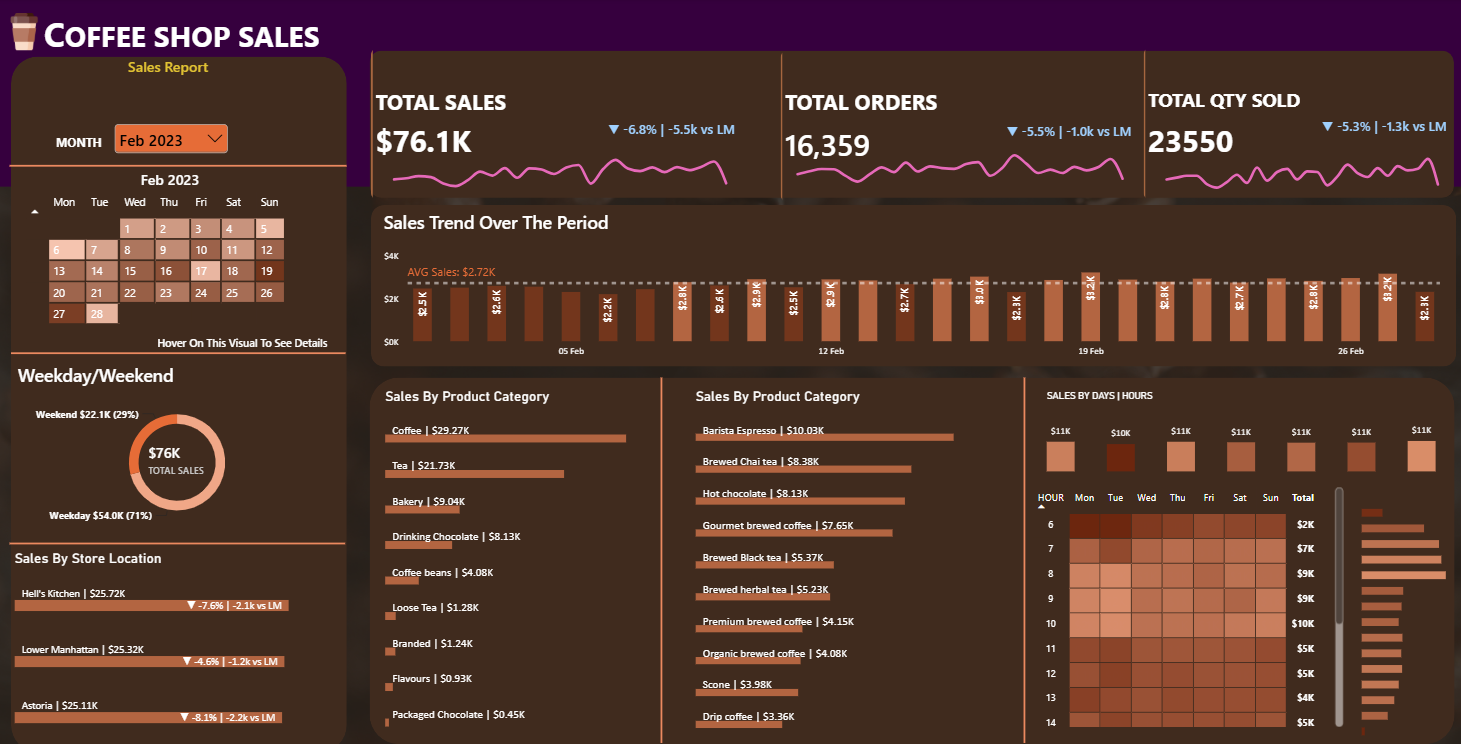

The page's visual inventory and layout, read from the dashboard file:
{"tool":"powerbi","page":{"name":"Coffee Shop Sales","canvas":[1650,850],"ordinal":0},"visuals":[{"type":"shape","box":[417.1,428.6,1223.3,413.3],"z":0},{"type":"shape","box":[0,0,1649.4,212.8],"z":1000},{"type":"shape","box":[12.9,65.7,378.6,784.3],"z":2000},{"type":"shape","box":[417.5,58.8,1222.5,166.2],"z":3000},{"type":"textbox","box":[50,15.7,328.6,50],"z":4000},{"type":"cardVisual","fields":{"Data":["Transactions.TOTAL SALES"]},"box":[419.6,55.8,226.4,172.7],"z":4000,"group":"g1"},{"type":"cardVisual","fields":{"Data":["DAY TABLE.TOTAL QTY SOLD"]},"box":[1291.5,55.8,216.3,172.3],"z":4000,"group":"g3"},{"type":"cardVisual","fields":{"Data":["DAY TABLE.total orders"]},"box":[880.5,60,252.8,172],"z":4000,"group":"g2"},{"type":"slicer","fields":{"Values":["DAY TABLE.MONTH YEAR"]},"box":[125,136.7,137.9,44.3],"z":5000},{"type":"group","id":"g1","title":"Group 1","box":[419.2,55.8,425.8,179.2],"z":6000},{"type":"lineChart","fields":{"Category":["DAY TABLE.Date Hierarchy.Date"],"Y":["DAY TABLE.TOTAL QTY SOLD"]},"box":[1291.1,119.3,357.9,112.1],"z":6000,"group":"g3"},{"type":"lineChart","fields":{"Category":["DAY TABLE.Date Hierarchy.Date"],"Y":["Sum(Transactions.SALES)"]},"box":[419.2,123.1,426.4,111.5],"z":6000,"group":"g1"},{"type":"lineChart","fields":{"Category":["DAY TABLE.Date Hierarchy.Date"],"Y":["DAY TABLE.total orders"]},"box":[874.4,125.6,418.4,111.8],"z":6000,"group":"g2"},{"type":"group","id":"g2","title":"Group 1","box":[874.4,60,416.7,176.7],"z":7000},{"type":"group","id":"g3","title":"Group 1","box":[1291.1,55.8,358.9,175.8],"z":8000},{"type":"image","box":[0,16.7,56.7,41.7],"z":9000},{"type":"pivotTable","fields":{"Columns":["DAY TABLE.DAY NAME"],"Rows":["DAY TABLE.WEEK NUMBER"],"Values":["Min(DAY TABLE.DAY NUMBER)"]},"box":[14.4,204.4,378.9,206.7],"z":10000},{"type":"cardVisual","fields":{"Data":["Min(DAY TABLE.MONTH YEAR)"]},"box":[144.4,178.9,111.8,51.8],"z":11000},{"type":"cardVisual","fields":{"Data":["DAY TABLE.FOOT NOTE"]},"box":[162.2,375.6,231.5,26.2],"z":12000},{"type":"shape","box":[13.8,393.8,377.1,12.9],"z":13000},{"type":"shape","box":[11.1,171.1,380,36.7],"z":14000},{"type":"donutChart","title":"Weekday/Weekend","fields":{"Category":["DAY TABLE.Weekday / Weekend"],"Y":["Transactions.TOTAL SALES"]},"box":[4.8,397.6,391.4,211.4],"z":15000},{"type":"shape","box":[740,428.6,12.3,412.3],"z":16000},{"type":"cardVisual","fields":{"Data":["Transactions.TOTAL SALES"]},"box":[152.2,492.2,98.8,58.2],"z":17000},{"type":"clusteredBarChart","title":"Sales By Store Location ","fields":{"Category":["Transactions.store_location"],"Y":["DAY TABLE.Placeholder","Transactions.TOTAL SALES"]},"box":[2.2,608.9,392.2,230],"z":18000},{"type":"shape","box":[419,234,1223.3,182.2],"z":19000},{"type":"columnChart","title":"Sales Trend Over The Period ","fields":{"Category":["Transactions.transaction_date"],"Y":["Transactions.TOTAL SALES"]},"box":[417,225,1222.5,200],"z":20000},{"type":"clusteredBarChart","title":"Sales By Product Category","fields":{"Category":["Transactions.product_category"],"Y":["DAY TABLE.Placeholder","Transactions.TOTAL SALES"]},"box":[419.3,426.3,331.6,412.3],"z":21000},{"type":"shape","box":[12.5,608.8,378.4,12.4],"z":22000},{"type":"clusteredBarChart","title":"Sales By Product Category","fields":{"Category":["Transactions.product_type"],"Y":["DAY TABLE.Placeholder","Transactions.TOTAL SALES"]},"box":[770,425.7,380,413.8],"z":23000},{"type":"shape","box":[1150,428,12.3,412.3],"z":24000},{"type":"pivotTable","fields":{"Columns":["DAY TABLE.DAY NAME"],"Rows":["Transactions.HOUR"],"Values":["Transactions.TOTAL SALES"]},"box":[1150,538.6,381.4,300],"z":25000},{"type":"barChart","fields":{"Category":["Transactions.HOUR"],"Y":["Transactions.TOTAL SALES"]},"box":[1520,551.7,130,298.6],"z":26000},{"type":"columnChart","title":"SALES BY DAYS | HOURS","fields":{"Category":["DAY TABLE.DAY NAME"],"Y":["Transactions.TOTAL SALES"]},"box":[1164.3,428.6,472.9,122.9],"z":26001},{"type":"textbox","box":[65,152.1,52.1,19.3],"z":26002},{"type":"textbox","box":[145.7,65.7,95.7,23.6],"z":26003}]}

Visuals, with their boxes in screenshot pixels (x1, y1, x2, y2), scaled from the page's 1650x850 canvas onto the 1461x744 screenshot:
shape: rect(369, 375, 1452, 737)
shape: rect(0, 0, 1460, 186)
shape: rect(11, 58, 347, 743)
shape: rect(370, 51, 1452, 197)
textbox: rect(44, 14, 335, 58)
cardVisual - Transactions.TOTAL SALES: rect(372, 49, 572, 200)
cardVisual - DAY TABLE.TOTAL QTY SOLD: rect(1144, 49, 1335, 200)
cardVisual - DAY TABLE.total orders: rect(780, 53, 1003, 203)
slicer - DAY TABLE.MONTH YEAR: rect(111, 120, 233, 158)
"Group 1" group: rect(371, 49, 748, 206)
lineChart - DAY TABLE.Date Hierarchy.Date x DAY TABLE.TOTAL QTY SOLD: rect(1143, 104, 1460, 203)
lineChart - DAY TABLE.Date Hierarchy.Date x Sum(Transactions.SALES): rect(371, 108, 749, 205)
lineChart - DAY TABLE.Date Hierarchy.Date x DAY TABLE.total orders: rect(774, 110, 1145, 208)
"Group 1" group: rect(774, 53, 1143, 207)
"Group 1" group: rect(1143, 49, 1460, 203)
image: rect(0, 15, 50, 51)
pivotTable - DAY TABLE.DAY NAME x DAY TABLE.WEEK NUMBER: rect(13, 179, 348, 360)
cardVisual - Min(DAY TABLE.MONTH YEAR): rect(128, 157, 227, 202)
cardVisual - DAY TABLE.FOOT NOTE: rect(144, 329, 349, 352)
shape: rect(12, 345, 346, 356)
shape: rect(10, 150, 346, 182)
"Weekday/Weekend" donutChart: rect(4, 348, 351, 533)
shape: rect(655, 375, 666, 736)
cardVisual - Transactions.TOTAL SALES: rect(135, 431, 222, 482)
"Sales By Store Location " clusteredBarChart: rect(2, 533, 349, 734)
shape: rect(371, 205, 1454, 364)
"Sales Trend Over The Period " columnChart: rect(369, 197, 1452, 372)
"Sales By Product Category" clusteredBarChart: rect(371, 373, 665, 734)
shape: rect(11, 533, 346, 544)
"Sales By Product Category" clusteredBarChart: rect(682, 373, 1018, 735)
shape: rect(1018, 375, 1029, 736)
pivotTable - DAY TABLE.DAY NAME x Transactions.HOUR: rect(1018, 471, 1356, 734)
barChart - Transactions.HOUR x Transactions.TOTAL SALES: rect(1346, 483, 1460, 743)
"SALES BY DAYS | HOURS" columnChart: rect(1031, 375, 1450, 483)
textbox: rect(58, 133, 104, 150)
textbox: rect(129, 58, 214, 78)
